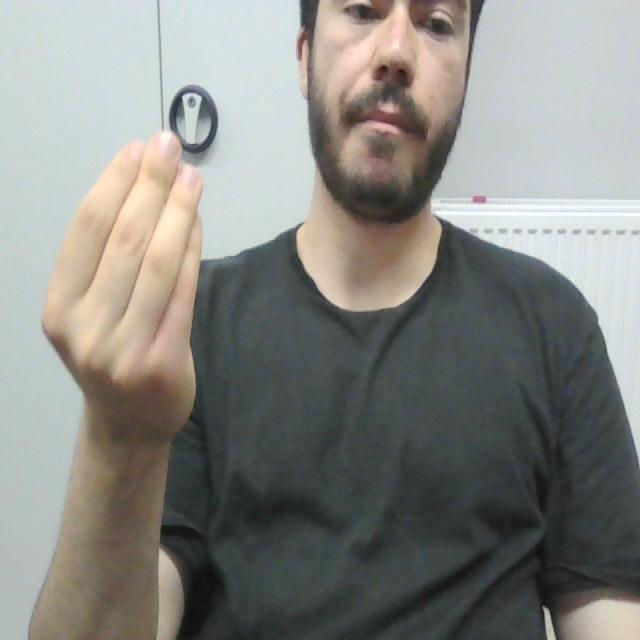iyi: (39, 135, 209, 380)
